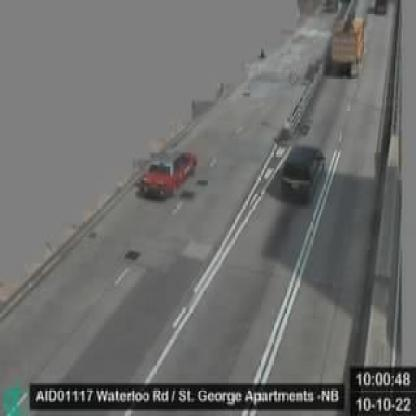Car: (137, 148, 196, 201), (276, 142, 325, 204)
Truck: (330, 19, 366, 78)
